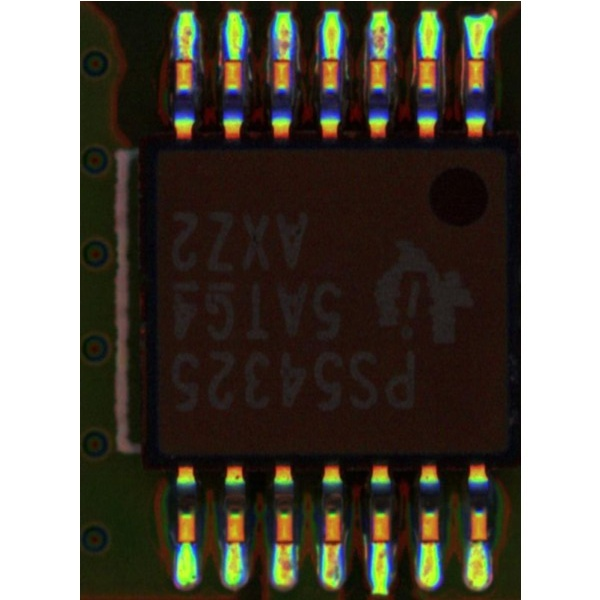Bad_podu: (280, 533, 292, 557), (180, 45, 192, 69), (328, 532, 339, 557)
